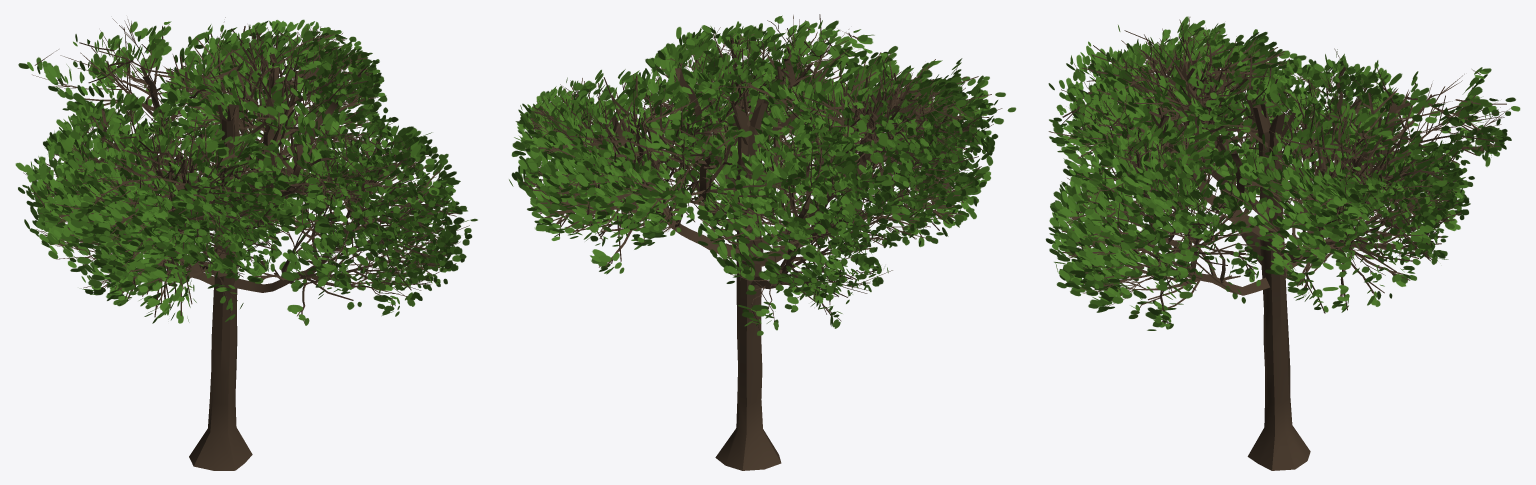
The picture shows the model from 3 angles, left to right: view 1: azimuth 30°, elevation 25°; view 2: azimuth 150°, elevation 25°; view 3: azimuth 270°, elevation 25°; orthographic projection.
Parts seen in each view (by area): view 1: oak 01.001_trunk_Mat.001_0.096; view 2: oak 01.001_trunk_Mat.001_0.096; view 3: oak 01.001_trunk_Mat.001_0.096.
Part boxes in pixels (<box>): oak 01.001_trunk_Mat.001_0.096: <box>15,17,477,470</box>; oak 01.001_trunk_Mat.001_0.096: <box>509,14,1016,470</box>; oak 01.001_trunk_Mat.001_0.096: <box>1045,16,1520,470</box>.
Bounding box in the file's own units: 5.85 × 5.11 × 6.01.
2 materials, 1 textured.
